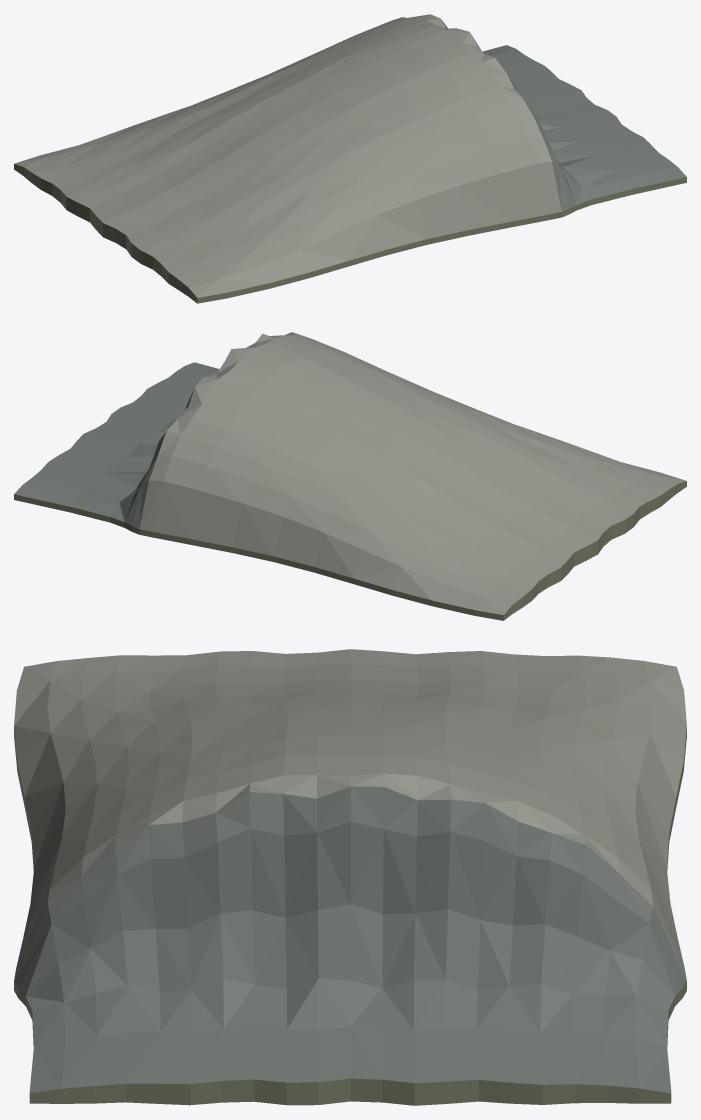
The picture shows the model from 3 angles, top to bottom: view 1: azimuth 30°, elevation 25°; view 2: azimuth 150°, elevation 25°; view 3: azimuth 270°, elevation 25°; orthographic projection. The views are drawn at different scales.
Visible parts, largest first — view 1: coherent_bedrock_stoss_and_plucked_lee; view 2: coherent_bedrock_stoss_and_plucked_lee; view 3: coherent_bedrock_stoss_and_plucked_lee.
Part boxes in pixels (x1,y1,x2,y2): coherent_bedrock_stoss_and_plucked_lee: (14, 14, 686, 303); coherent_bedrock_stoss_and_plucked_lee: (14, 332, 686, 620); coherent_bedrock_stoss_and_plucked_lee: (14, 649, 686, 1105).
Size of the model in its own units: 36.39 by 8.13 by 24.
